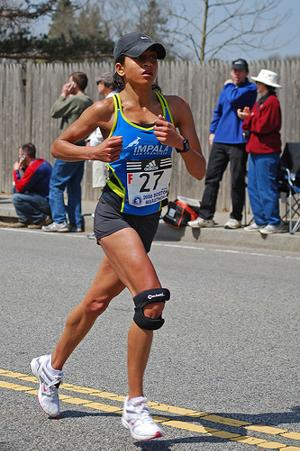person: (30, 32, 207, 446)
